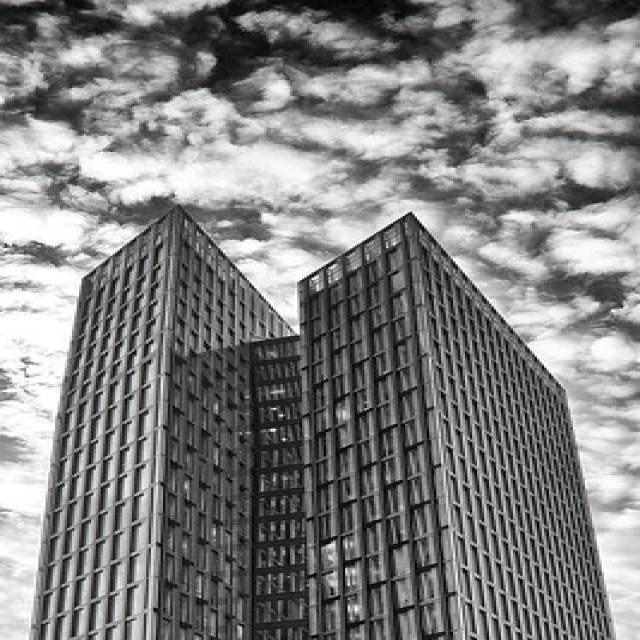Normal_building: (291, 206, 622, 640), (18, 203, 310, 640)
